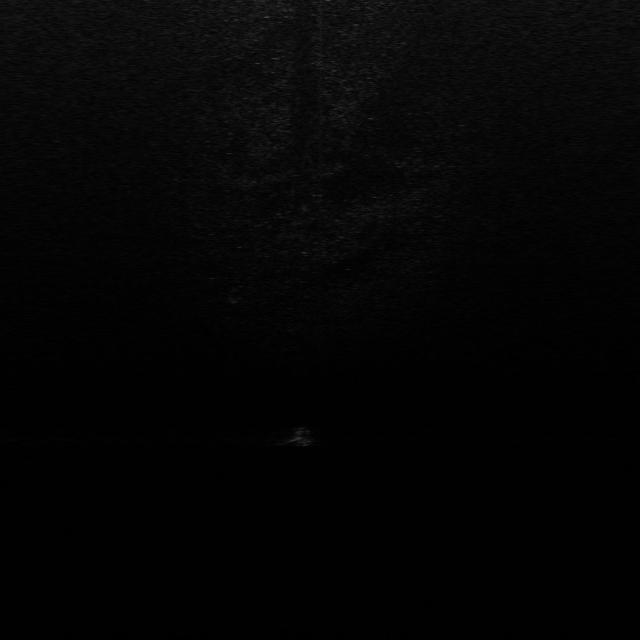ball: (283, 424, 312, 446)
circle cage: (226, 283, 247, 306)
